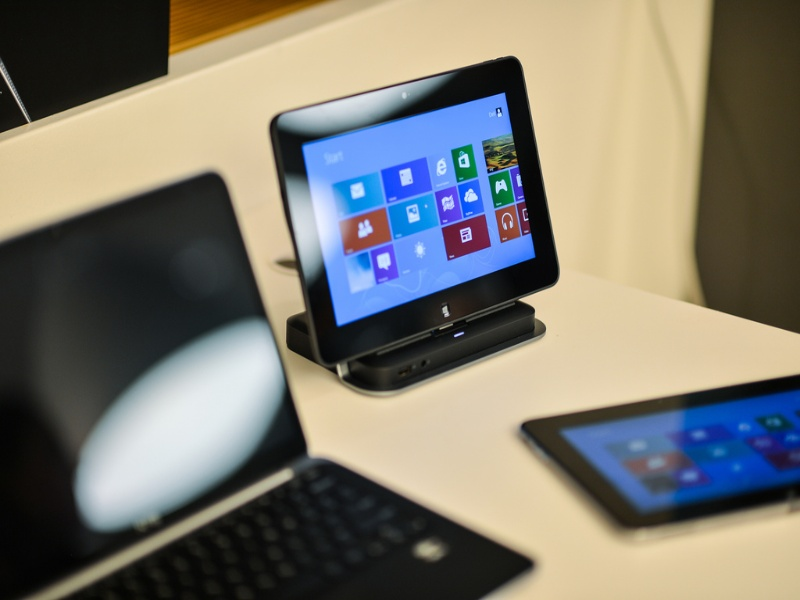cellphone: (269, 90, 575, 333)
